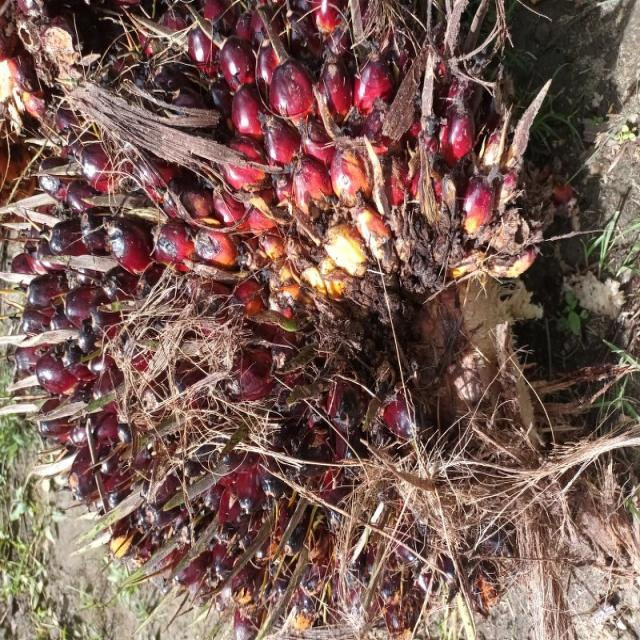fraksi 1: (3, 25, 480, 640)
